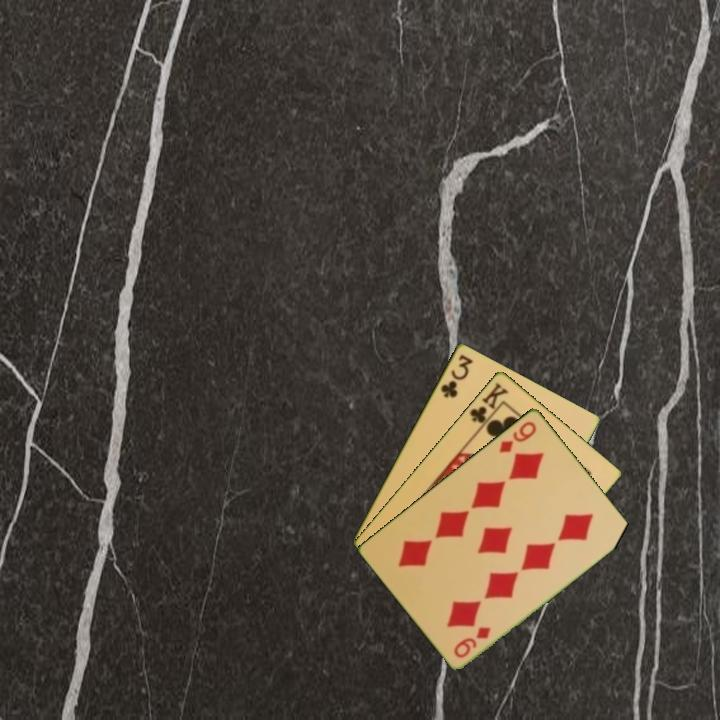3c: (437, 351, 476, 400)
9d: (495, 417, 540, 455), (450, 623, 494, 661)
Kc: (466, 378, 511, 432)
